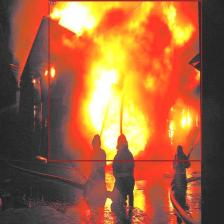fire: (48, 0, 201, 161)
